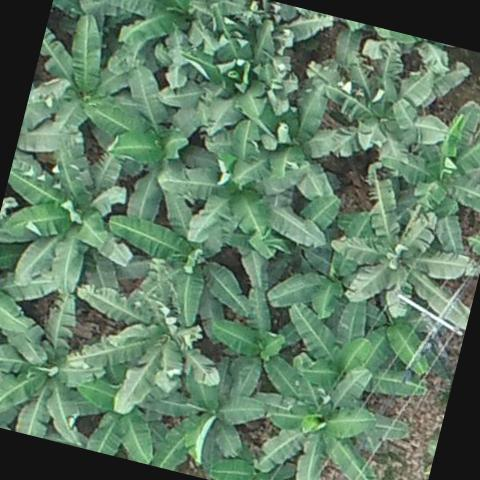Banana-plant: (48, 241, 244, 438), (88, 165, 276, 341), (0, 113, 163, 314), (284, 23, 470, 193), (317, 161, 480, 343), (144, 103, 318, 264), (227, 343, 423, 480), (347, 75, 480, 270), (0, 270, 138, 453), (152, 0, 318, 152), (20, 3, 172, 163), (265, 283, 440, 417), (136, 334, 272, 478), (263, 194, 396, 333), (193, 276, 324, 411), (65, 352, 175, 466), (0, 234, 73, 405), (68, 0, 216, 61), (206, 429, 304, 480)
